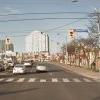Crosswalk: (3, 70, 96, 96)
